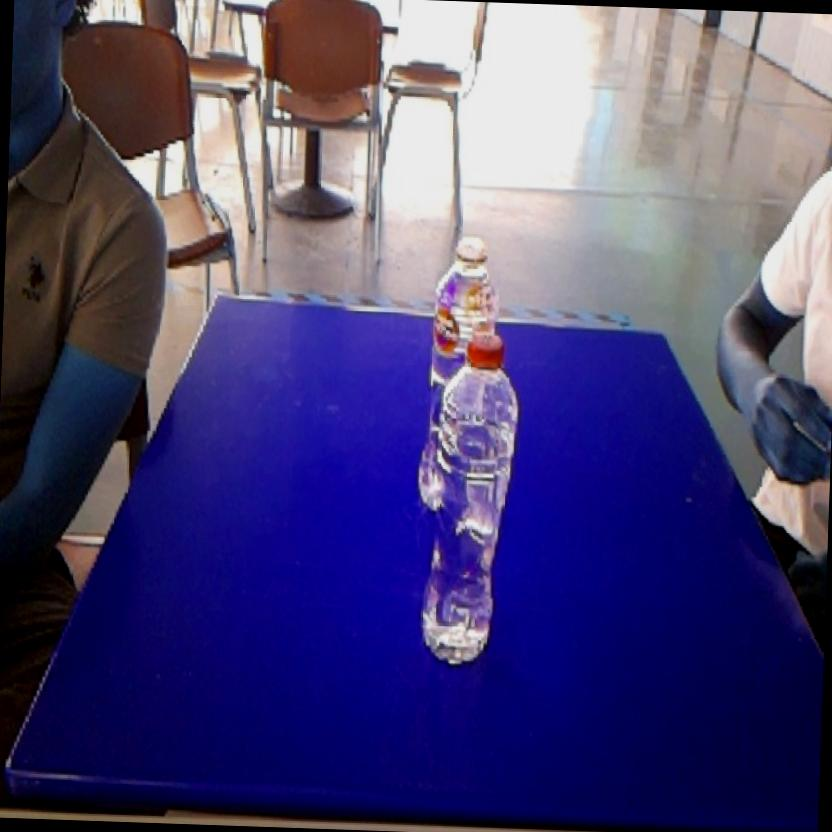no_cap: (425, 227, 514, 326)
no_label: (413, 328, 526, 674)
